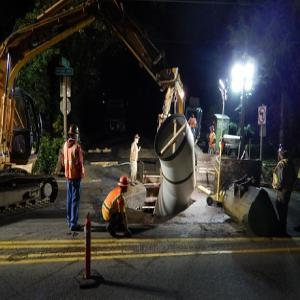blue: (279, 142, 290, 159)
red: (119, 174, 130, 193), (69, 124, 80, 141), (135, 134, 141, 144), (210, 126, 216, 134)
